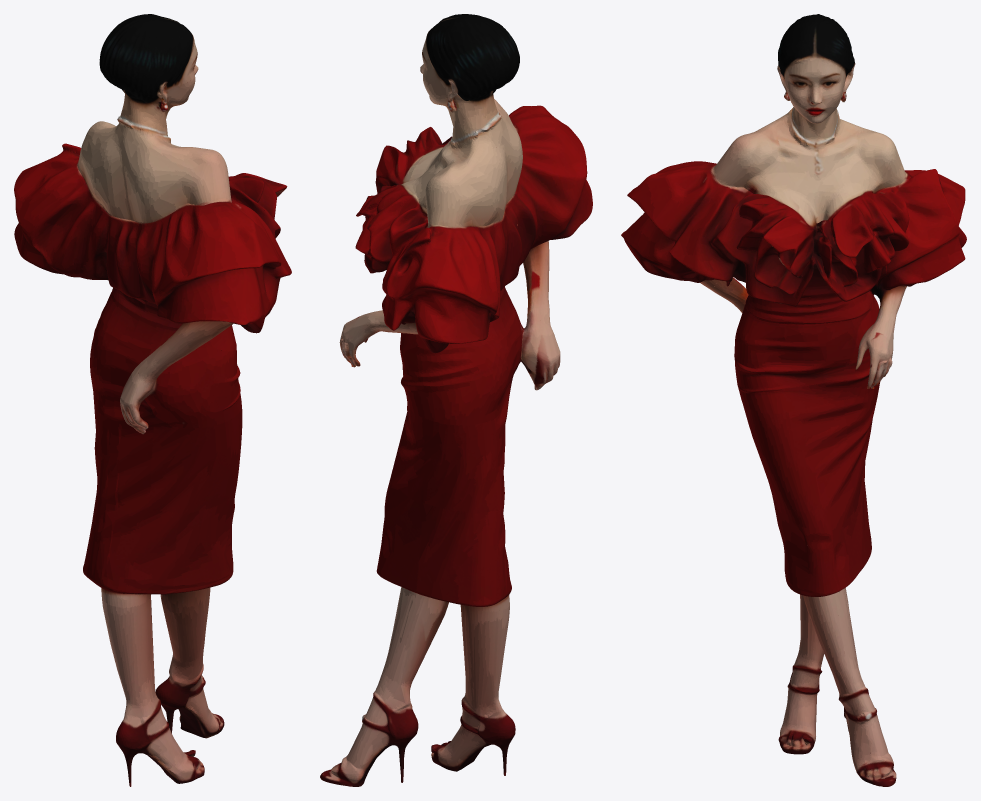
The model's file is female_model.glb.
3 views of the same model, side by side, from view 1: azimuth 30°, elevation 25°; view 2: azimuth 150°, elevation 25°; view 3: azimuth 270°, elevation 25° (orthographic). The views are drawn at different scales.
Visible parts, largest first — view 1: tripo_node_b21e2d23-1892-47a2-9d68-834a1ebf8aeb; view 2: tripo_node_b21e2d23-1892-47a2-9d68-834a1ebf8aeb; view 3: tripo_node_b21e2d23-1892-47a2-9d68-834a1ebf8aeb.
Boxes of the visible parts, x1=… form: tripo_node_b21e2d23-1892-47a2-9d68-834a1ebf8aeb: x1=14, y1=14, x2=291, y2=786; tripo_node_b21e2d23-1892-47a2-9d68-834a1ebf8aeb: x1=320, y1=14, x2=592, y2=786; tripo_node_b21e2d23-1892-47a2-9d68-834a1ebf8aeb: x1=621, y1=14, x2=966, y2=786.
Bounding box in the file's own units: 0.2575 × 1 × 0.4379.
Materials: 1 (1 with a texture image).
